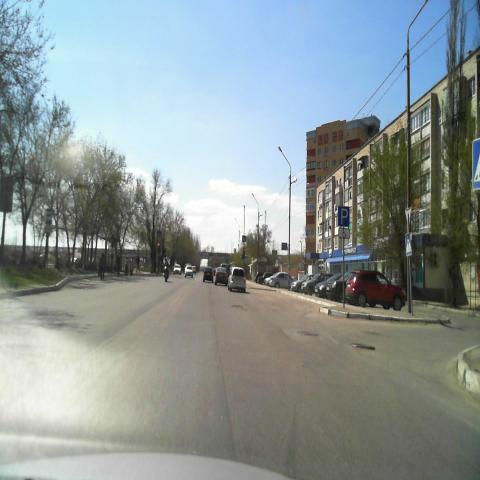8_17: (338, 227, 350, 238)
